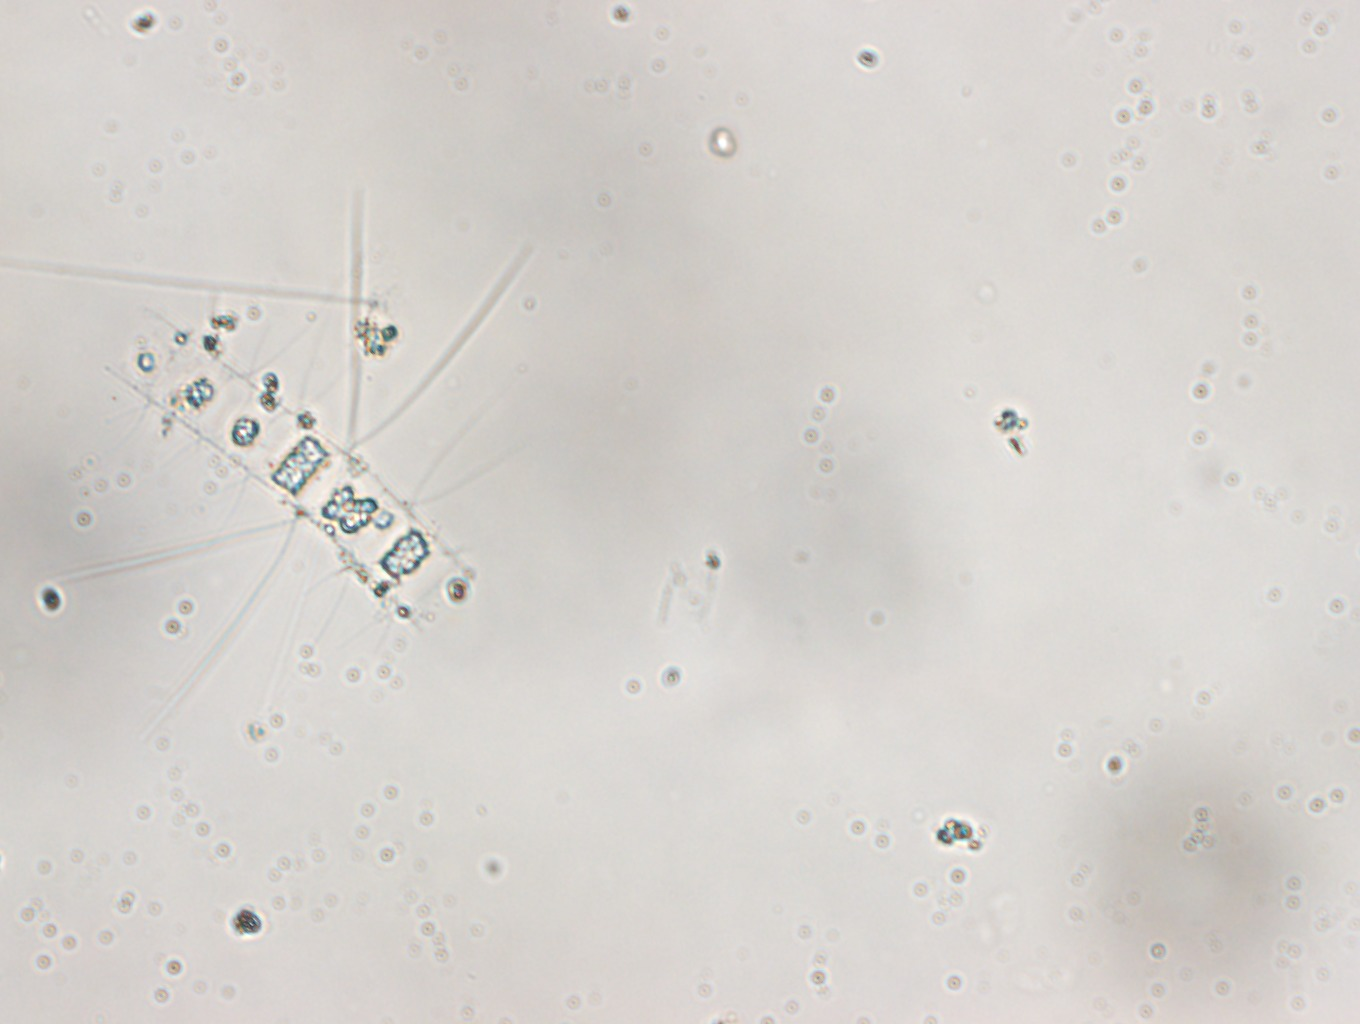chaetoceros: (55, 189, 541, 713)
